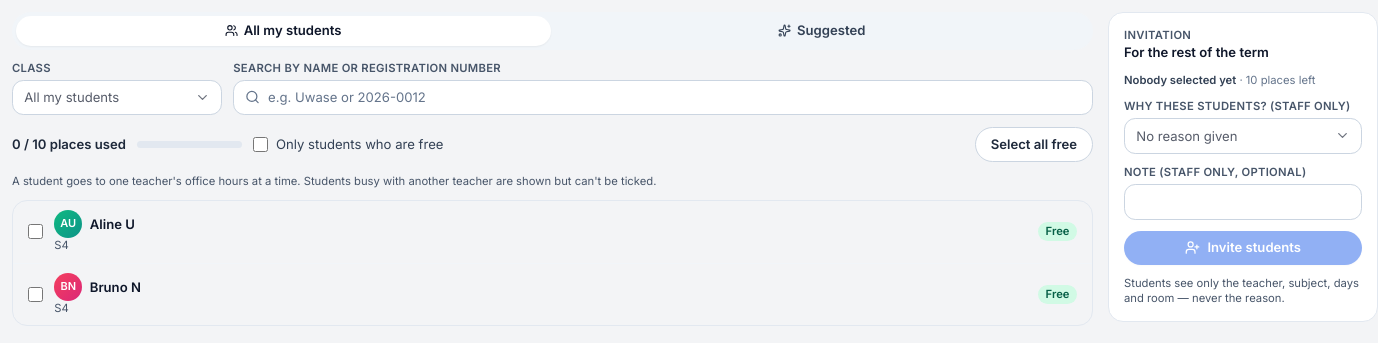
Test: office hours phase 6 (frontend) › lists suggested students with the evidence for each
Expected: the text "Aline U" is shown, x1=90 y1=215 x2=135 y2=234
Click the tab "Suggested" at (822, 31), box x1=554 y1=16 x2=1089 y2=46
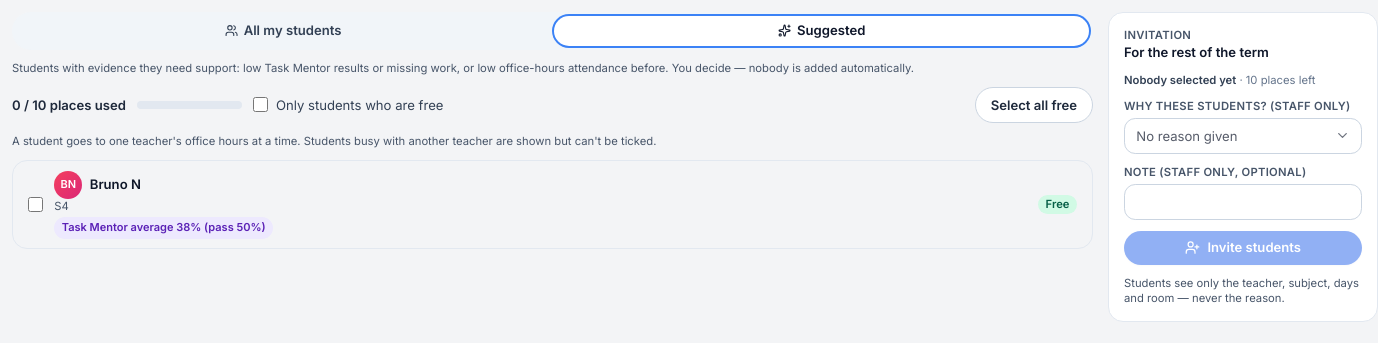
Expected: the checkbox labelled "BN Bruno N S4 Task Mentor average 38% (pass 50%)" is enabled, x1=28 y1=197 x2=43 y2=212
Now the text "Task Mentor average 38% (pass 50%)" is shown, box x1=54 y1=217 x2=273 y2=239
Now the text "Aline U" is gone
